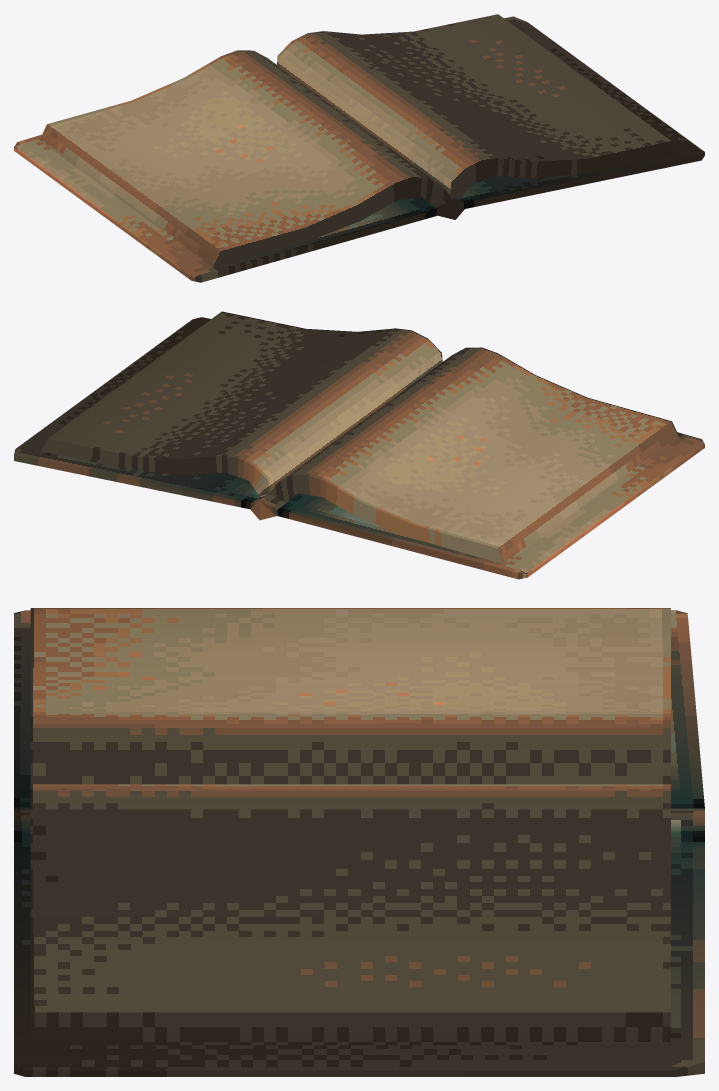
File: ps2_save-icons_suikodentactics.glb
3 renders of one model, top to bottom at view 1: azimuth 30°, elevation 25°; view 2: azimuth 150°, elevation 25°; view 3: azimuth 270°, elevation 25°, orthographic. The views are drawn at different scales.
Visible parts, largest first — view 1: rap.ico; view 2: rap.ico; view 3: rap.ico.
Boxes of the visible parts, x1=… form: rap.ico: x1=14, y1=14, x2=704, y2=282; rap.ico: x1=14, y1=311, x2=704, y2=579; rap.ico: x1=14, y1=608, x2=704, y2=1076.
Bounding box in the file's own units: 3.94 × 0.3589 × 2.5.
1 material, 1 textured.
